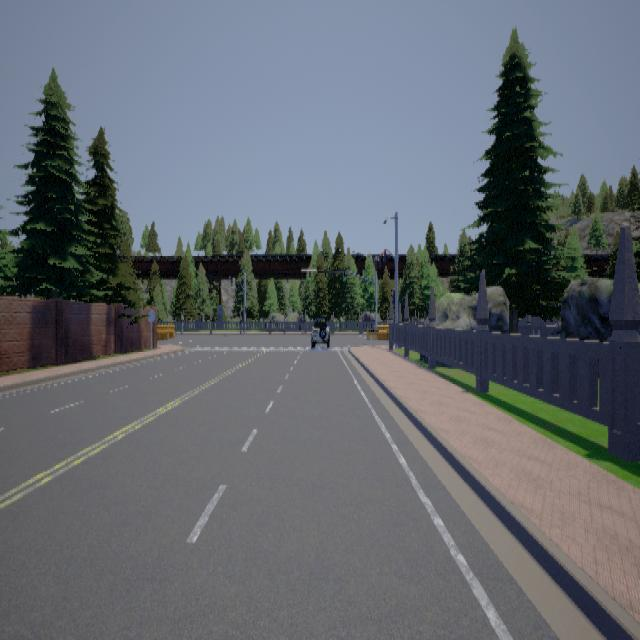green_light: (342, 270, 346, 281), (308, 271, 310, 280), (324, 272, 326, 280)
red_light: (381, 248, 385, 261)
vehicle: (310, 317, 329, 347)
